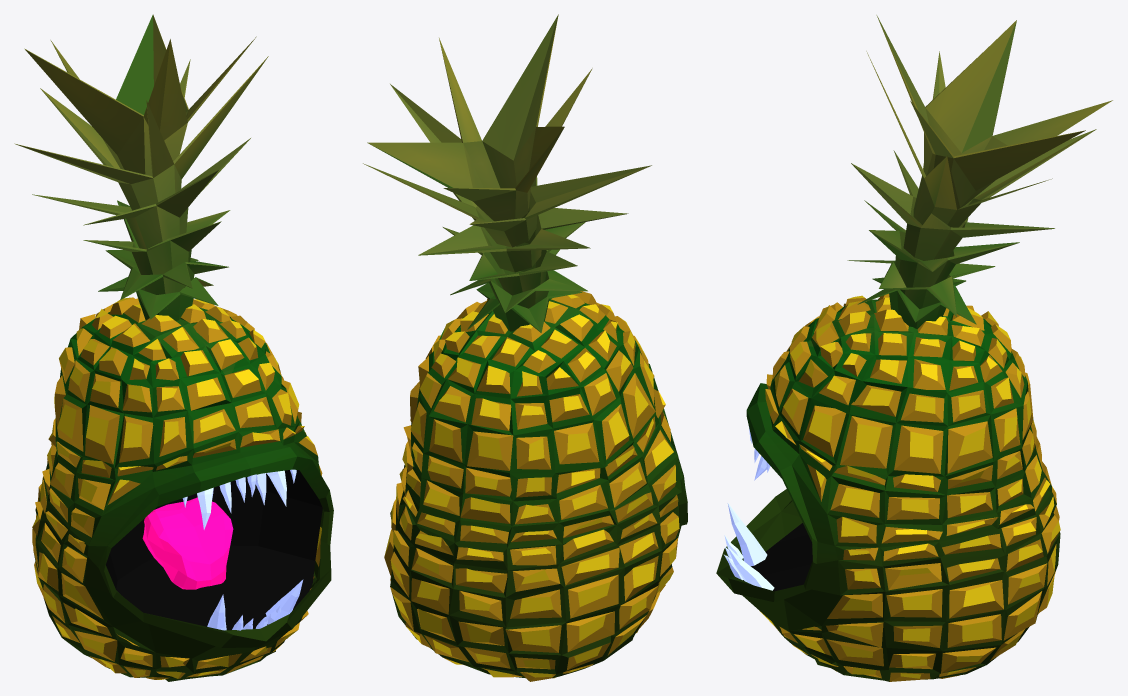
File: pineapple enemy_baked.glb
3 views of the same model, side by side, from view 1: azimuth 30°, elevation 25°; view 2: azimuth 150°, elevation 25°; view 3: azimuth 270°, elevation 25° (orthographic).
Parts seen in each view (by area): view 1: Body Base; view 2: Body Base; view 3: Body Base.
Part boxes in pixels (x1,y1,x2,y2): Body Base: [14, 14, 333, 681]; Body Base: [363, 14, 687, 681]; Body Base: [716, 15, 1112, 681].
Size of the model in its own units: 1.17 by 2.67 by 1.5.
Materials: 6 (1 with a texture image).
